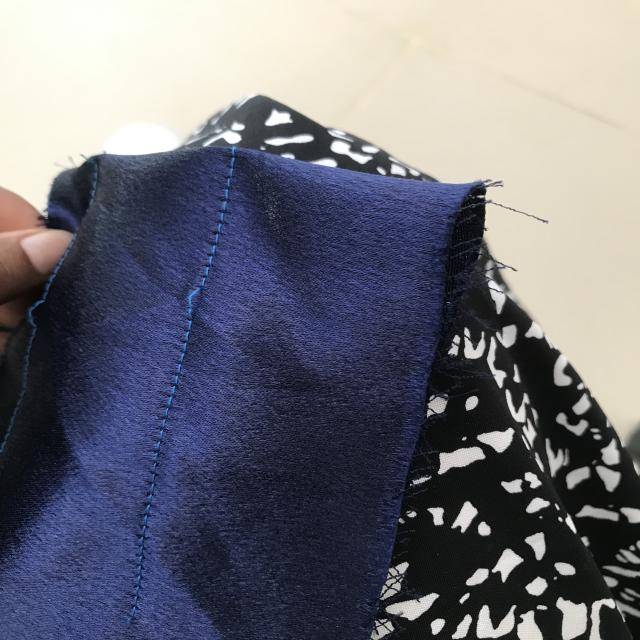skip: (176, 268, 210, 324), (25, 294, 53, 336)
